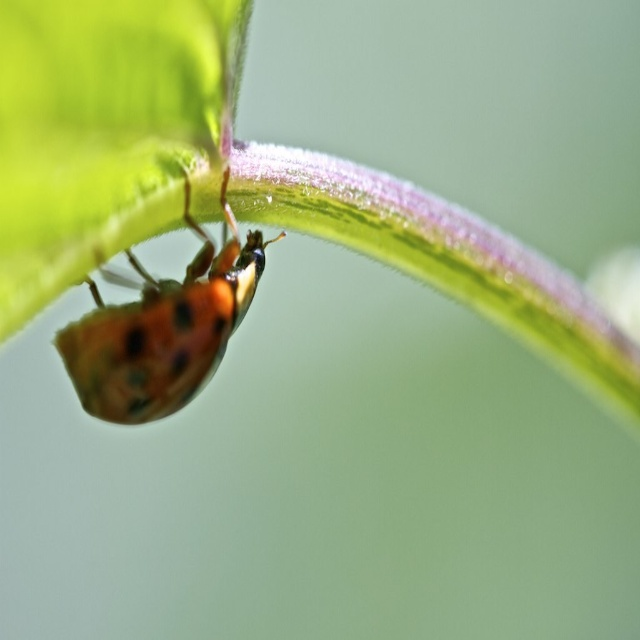Ladybug: (52, 160, 286, 424)
